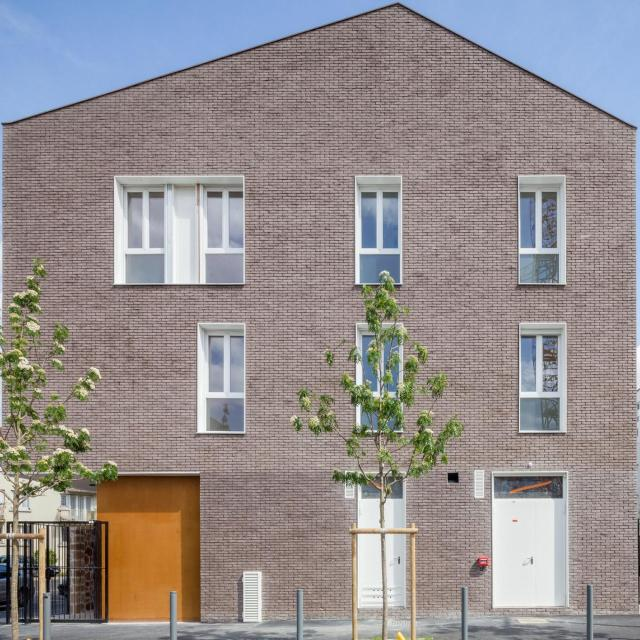door: (492, 497, 565, 611), (355, 498, 406, 611)
window: (200, 185, 243, 283), (519, 333, 562, 431), (124, 187, 166, 285), (357, 332, 399, 430), (521, 186, 563, 284), (357, 332, 399, 430), (202, 330, 244, 428), (357, 188, 399, 286)
